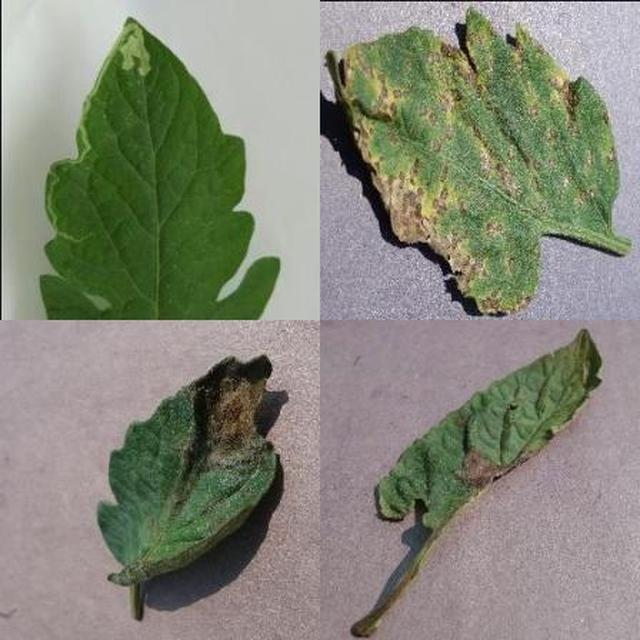Leaf Miner: (227, 228, 640, 640)
